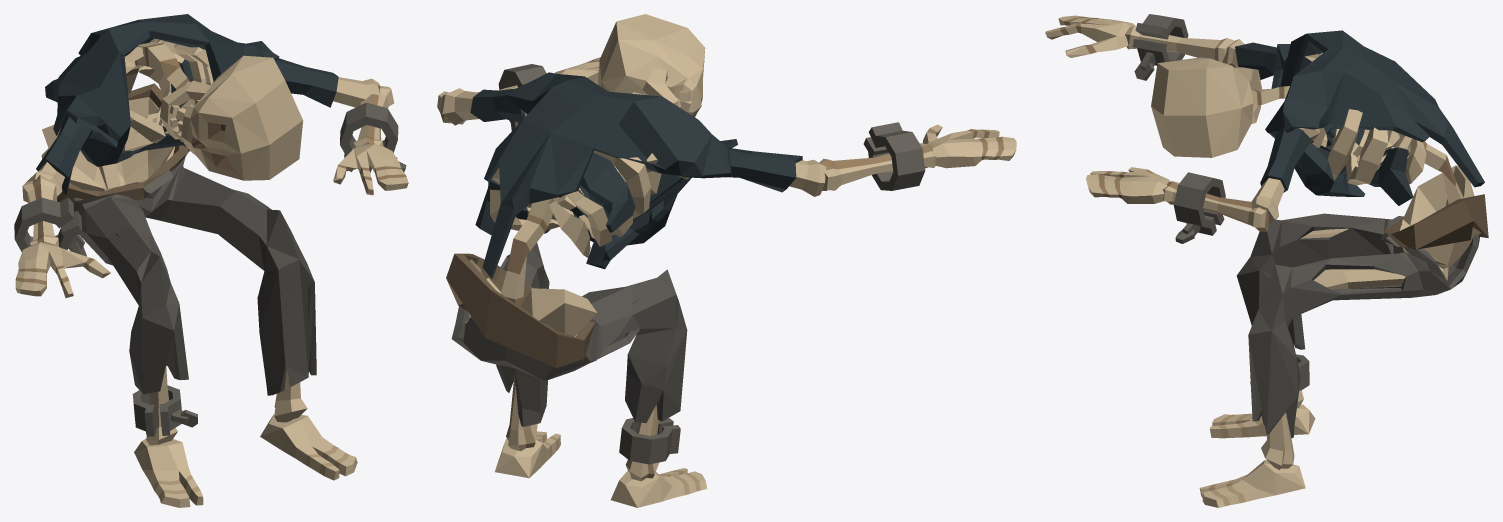
File: SM_Prop_Skeleton_Table_02.fbx
3 renders of one model, left to right at view 1: azimuth 30°, elevation 25°; view 2: azimuth 150°, elevation 25°; view 3: azimuth 270°, elevation 25°, orthographic. The views are drawn at different scales.
Visible parts, largest first — view 1: SM_Prop_Skeleton_Table_02; view 2: SM_Prop_Skeleton_Table_02; view 3: SM_Prop_Skeleton_Table_02.
Boxes of the visible parts, x1,y1,x2,y2 form: SM_Prop_Skeleton_Table_02: [14, 14, 408, 507]; SM_Prop_Skeleton_Table_02: [437, 14, 1016, 507]; SM_Prop_Skeleton_Table_02: [1045, 14, 1488, 507].
Size of the model in its own units: 126 by 111 by 111.
